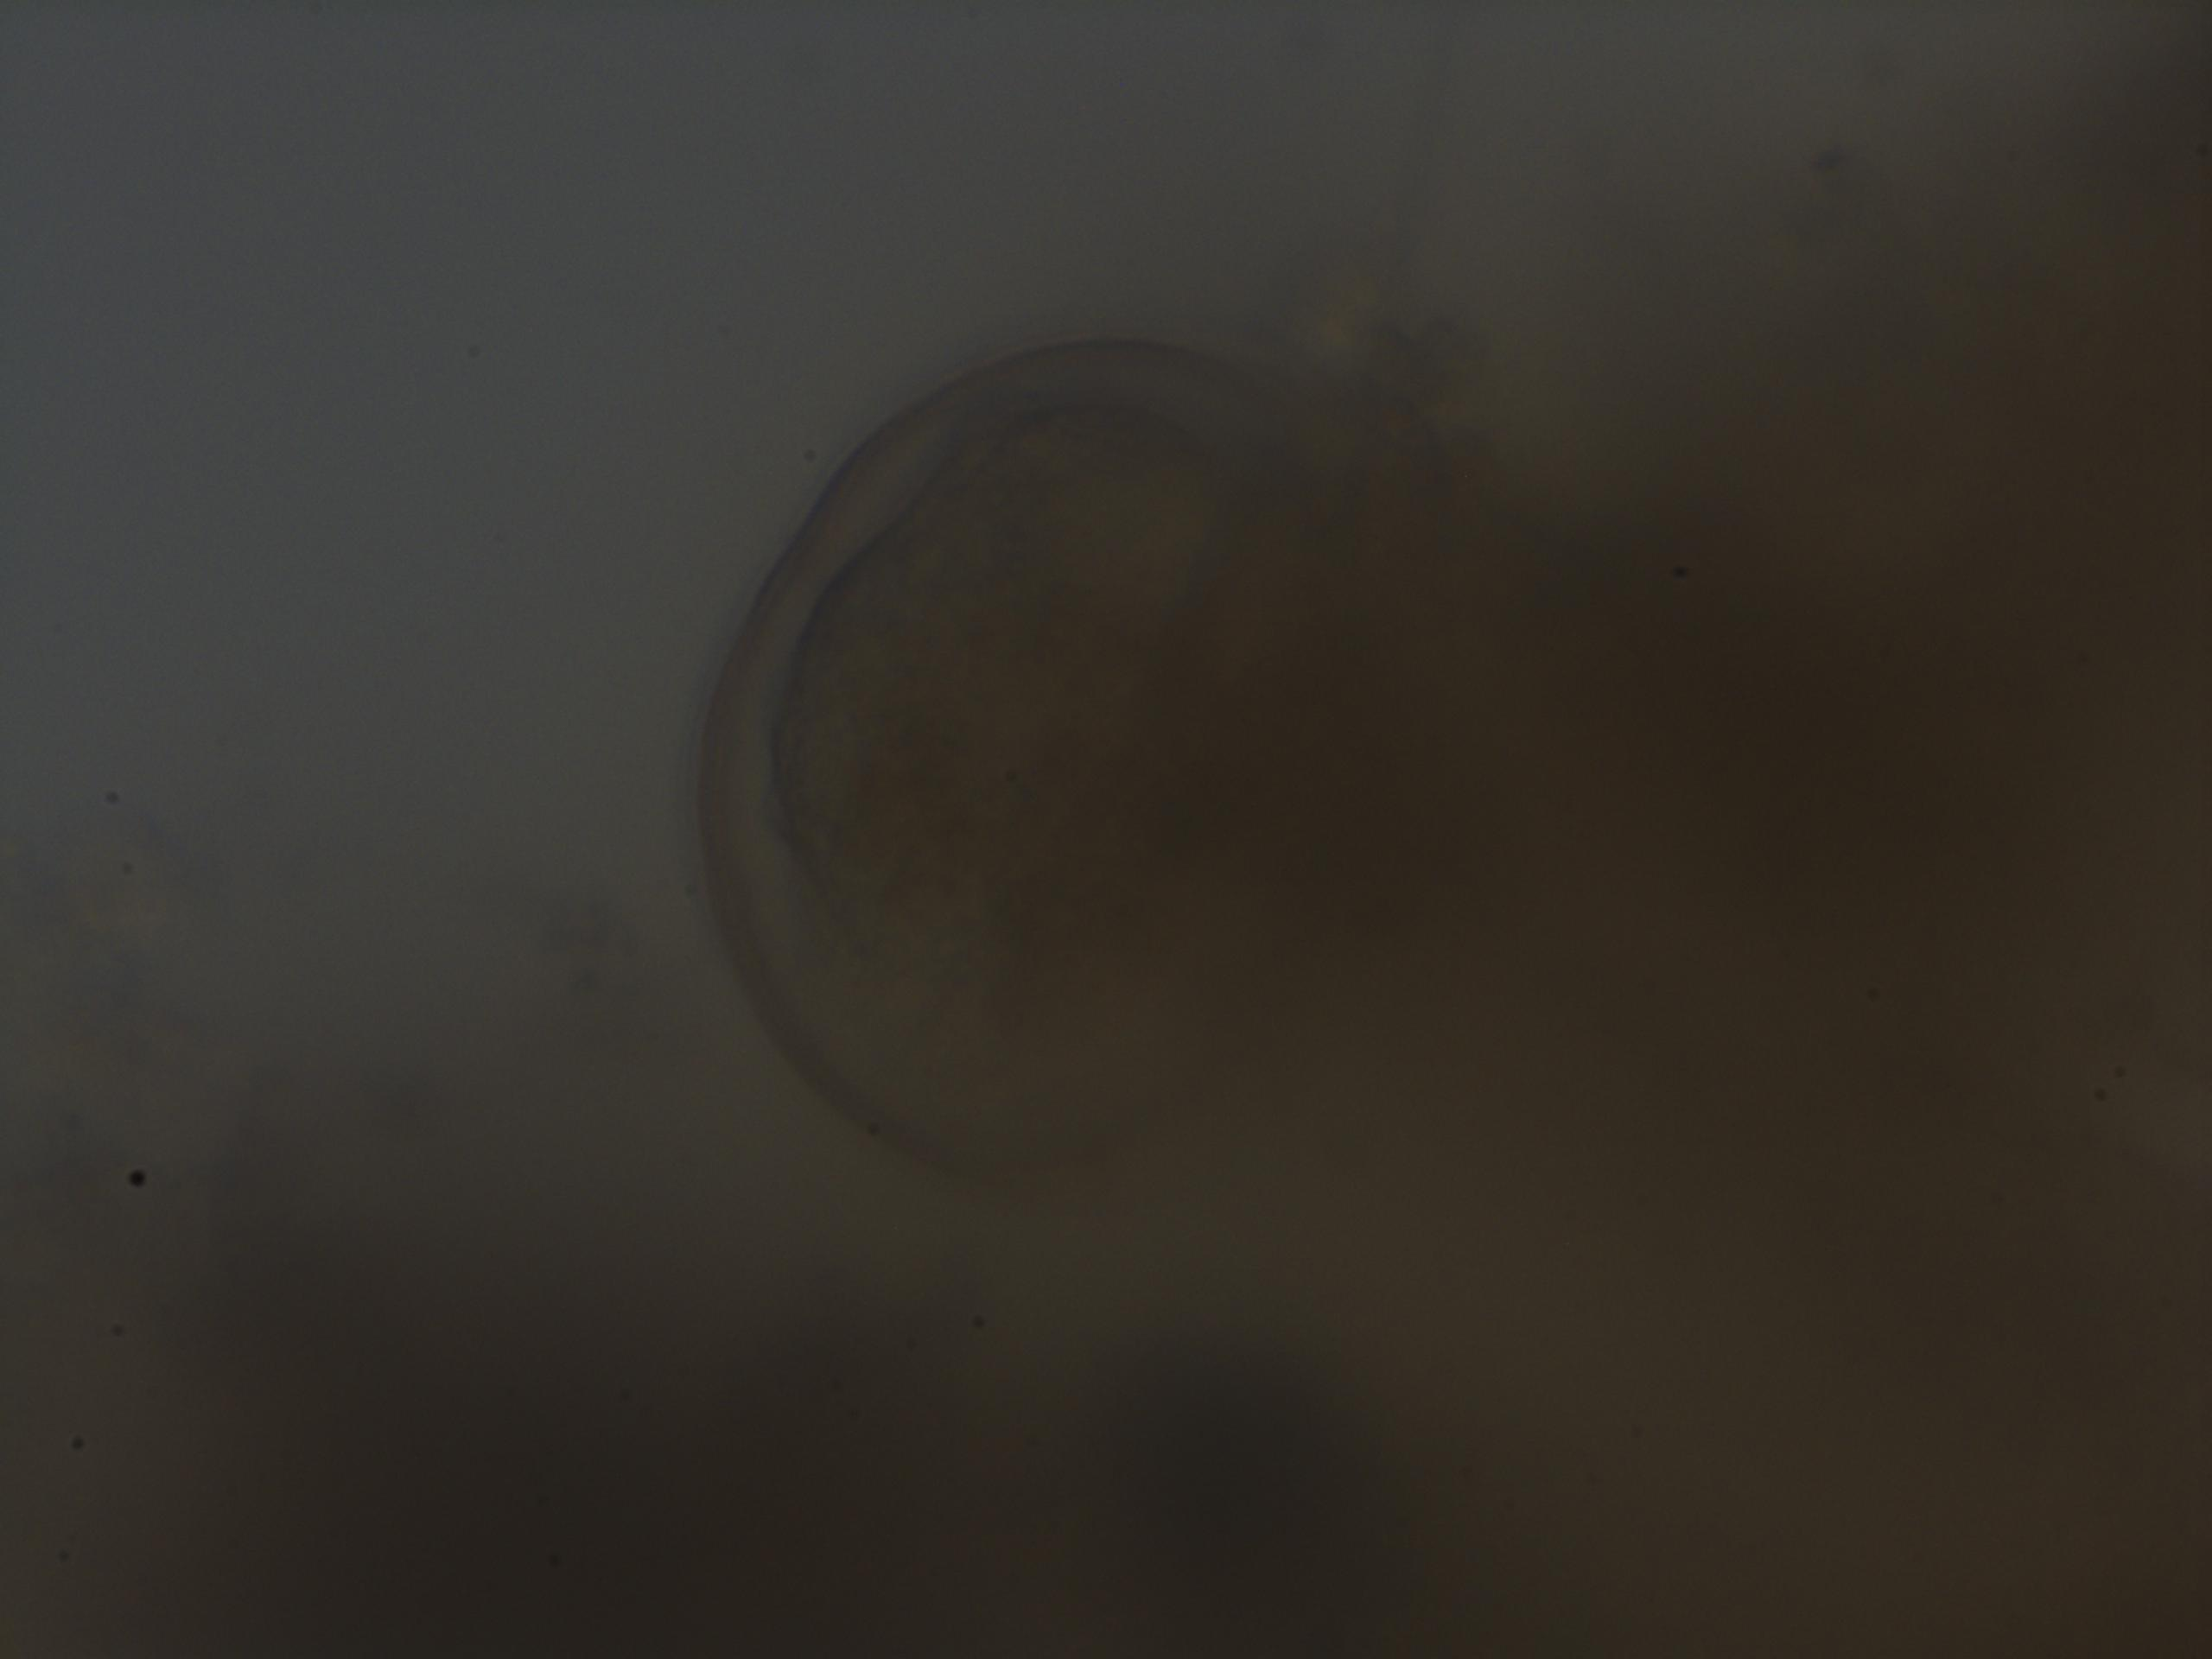protozoa: (688, 303, 1400, 1227)
